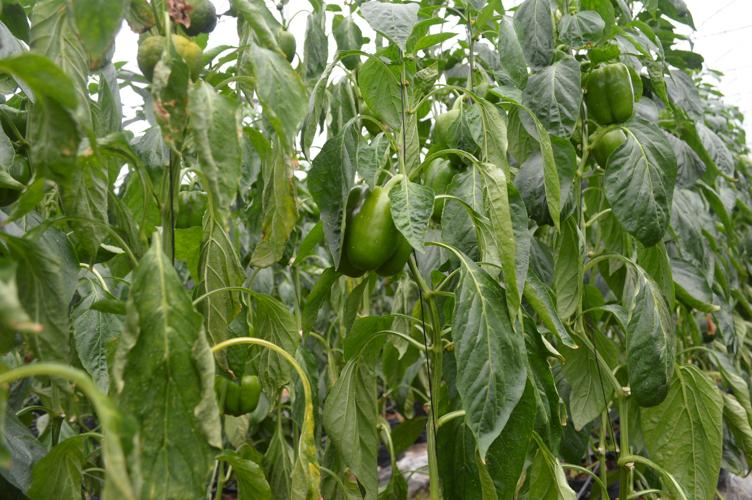BellPepper: (338, 182, 406, 275), (136, 35, 201, 83), (582, 62, 632, 124), (217, 372, 260, 413), (592, 126, 624, 166)
